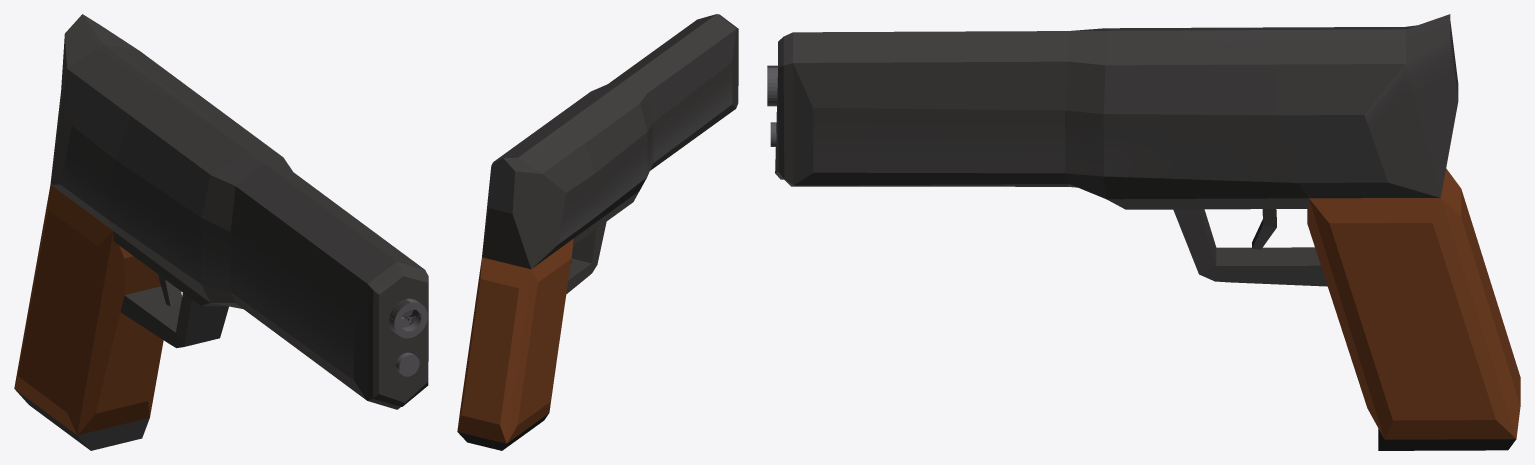
The model's file is Gun.obj.
The picture shows the model from 3 angles, left to right: view 1: azimuth 30°, elevation 25°; view 2: azimuth 150°, elevation 25°; view 3: azimuth 270°, elevation 25°; orthographic projection. The views are drawn at different scales.
Parts seen in each view (by area): view 1: 円柱.001; view 2: 円柱.001; view 3: 円柱.001.
Boxes of the visible parts, x1,y1,x2,y2 form: 円柱.001: (14,14,428,450); 円柱.001: (457,14,738,450); 円柱.001: (767,14,1520,450).
Bounding box in the file's own units: 0.2361 × 0.8886 × 1.43.
